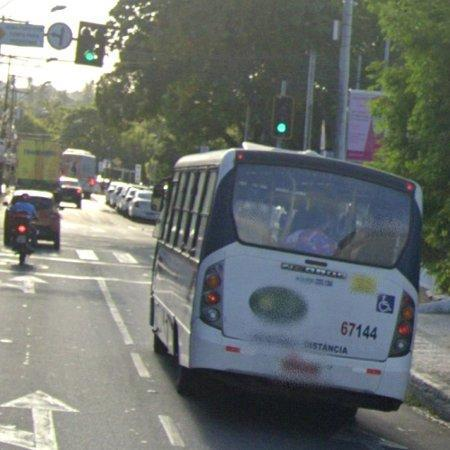buses: (150, 144, 422, 414)
